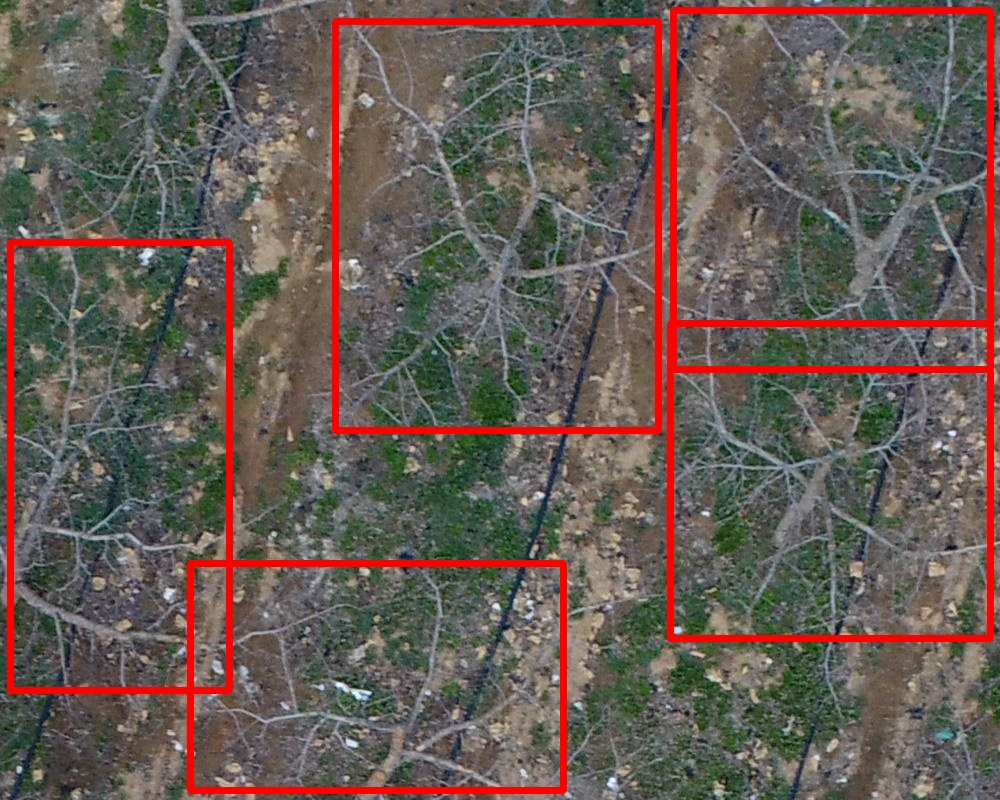apple: (335, 21, 658, 430), (673, 10, 990, 369), (670, 323, 990, 638), (10, 242, 229, 690), (190, 563, 563, 790)
